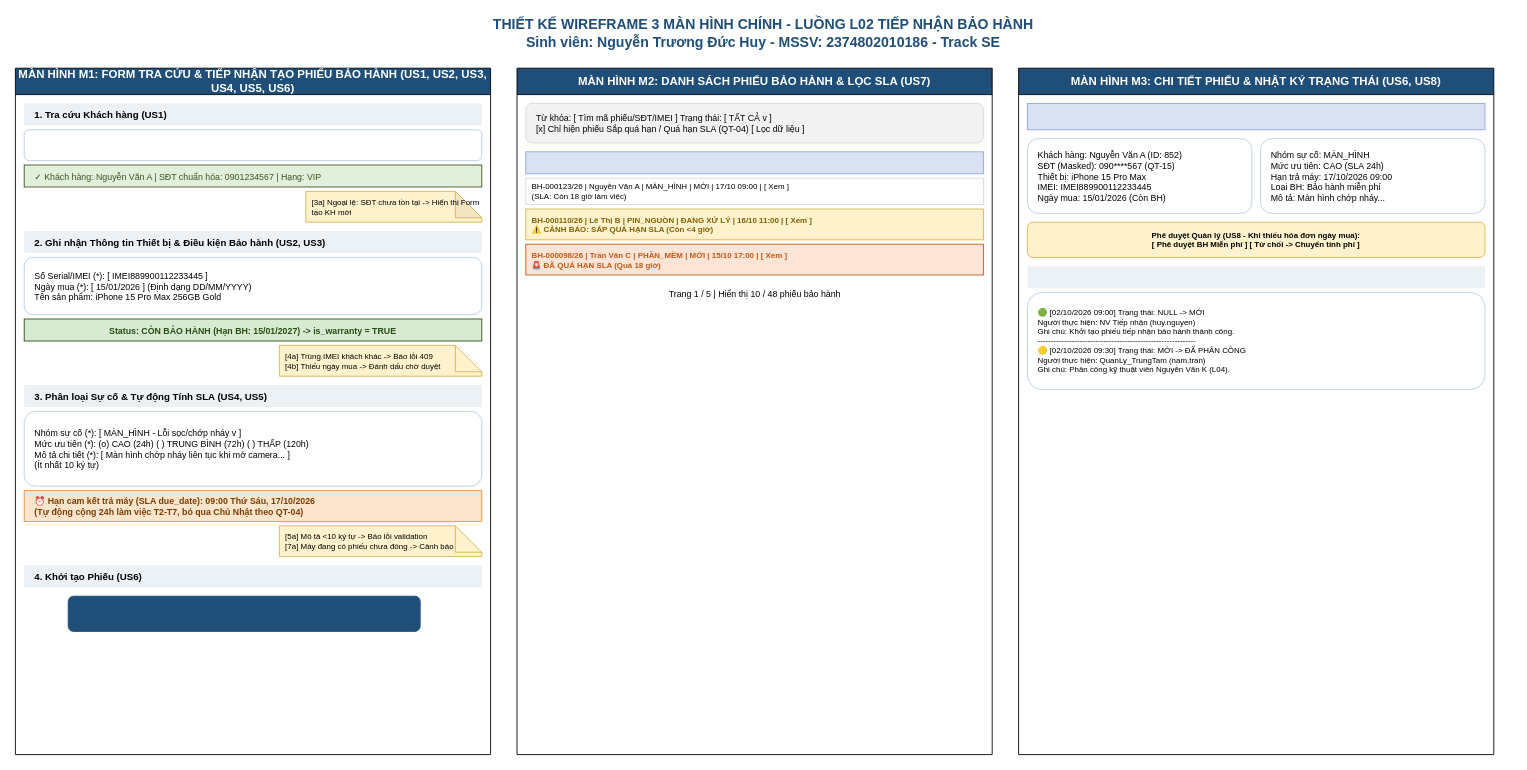
The diagram is 1527 pixels wide and 770 high, and some of its shapes have lost their labels. Each missing label, with the box of its shape:
[ TẠO PHIẾU BẢO HÀNH (BH-XXXXXX/2026) ] [ Hủy bỏ ]: (67, 595, 420, 631)
Lịch sử Chuyển Trạng thái (ticket_status_log - QT-06): (1027, 266, 1485, 288)
MÃ PHIẾU | KHÁCH HÀNG | NHÓM SỰ CỐ | TRẠNG THÁI | HẠN SLA | THAO TÁC: (525, 151, 983, 174)
PHIẾU BẢO HÀNH: BH-000123/2026 [ TRẠNG THÁI: MỚI ]: (1027, 103, 1485, 130)
Số điện thoại: [ 090 123 4567 ] [ Tìm kiếm ]: (23, 129, 482, 161)
